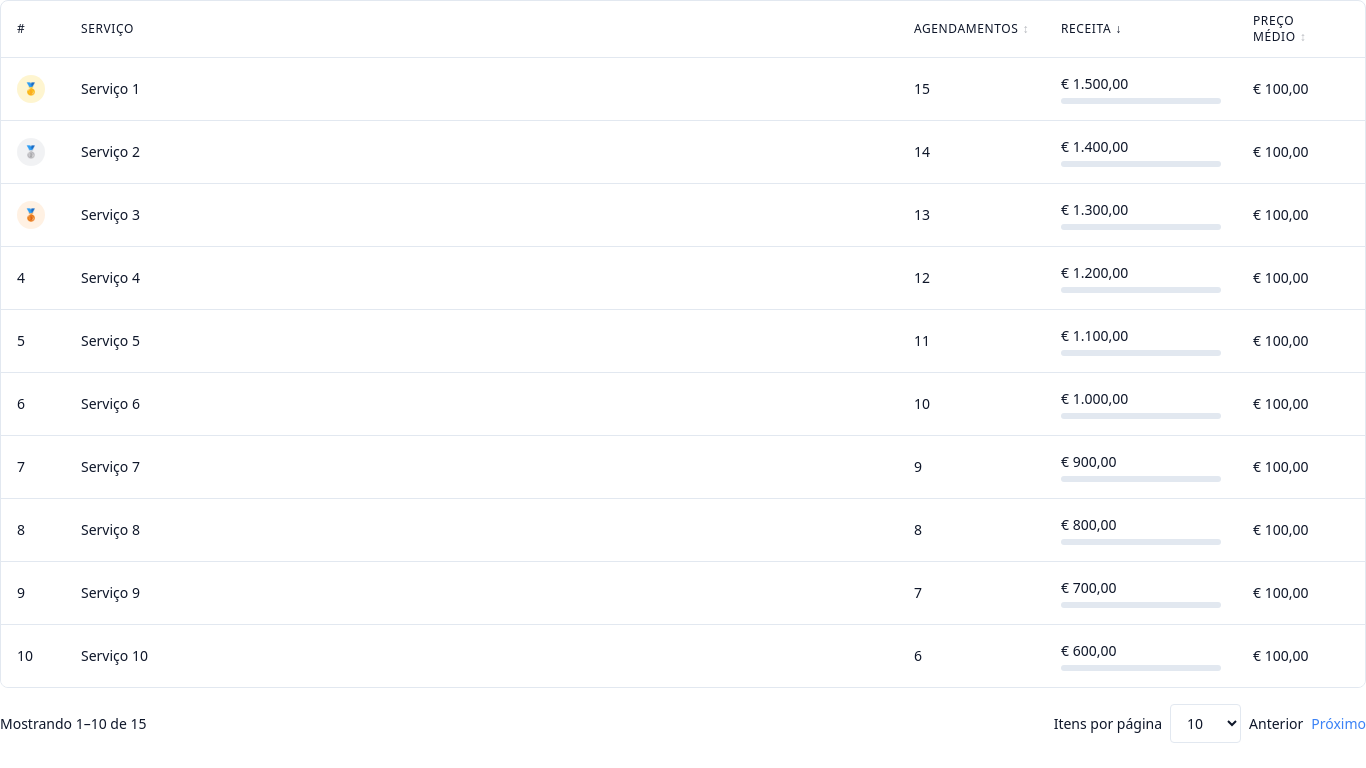
Test: TopServices › paginação da tabela › permite alterar o tamanho de página através do seletor "Itens por página"
The image size is (1366, 768).
Select "25" in the dropdown at (1206, 724), box left=1170, top=704, right=1241, bottom=743
(page scrolled)
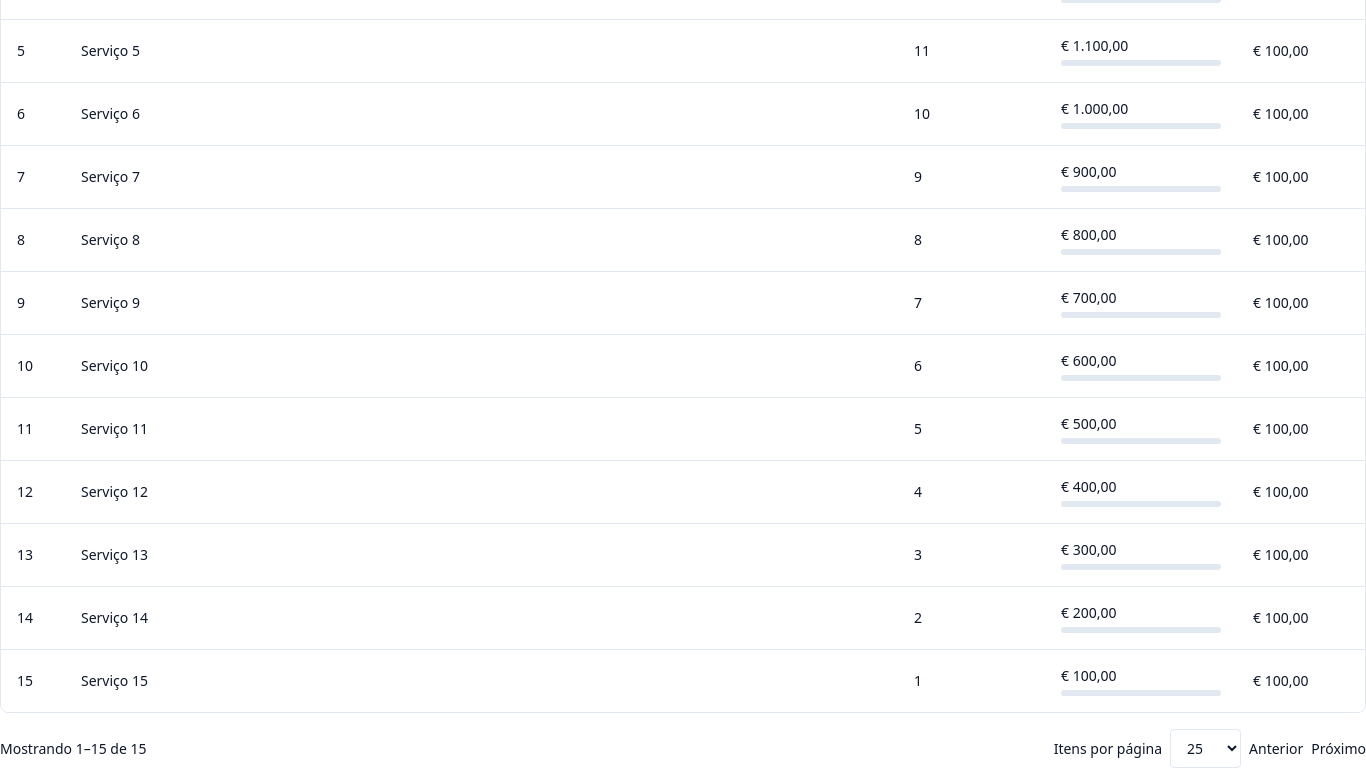
Expected: the button "Próximo" is disabled, left=1311, top=738, right=1365, bottom=758
